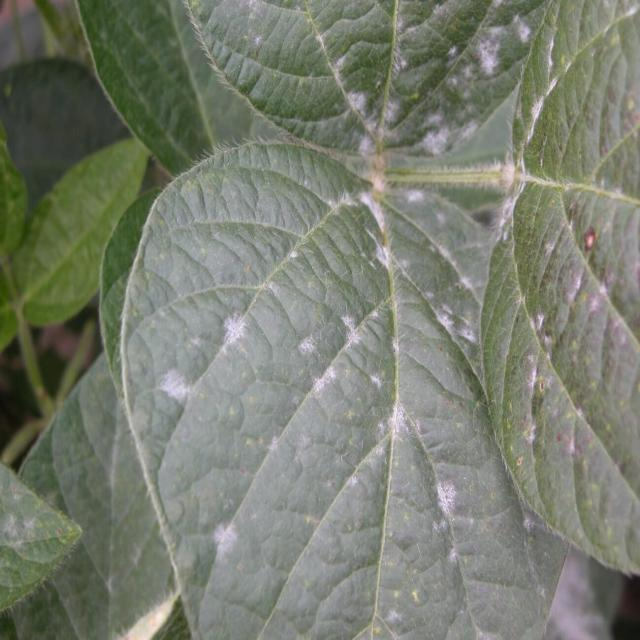Powdery Mildew: (204, 28, 546, 574)
